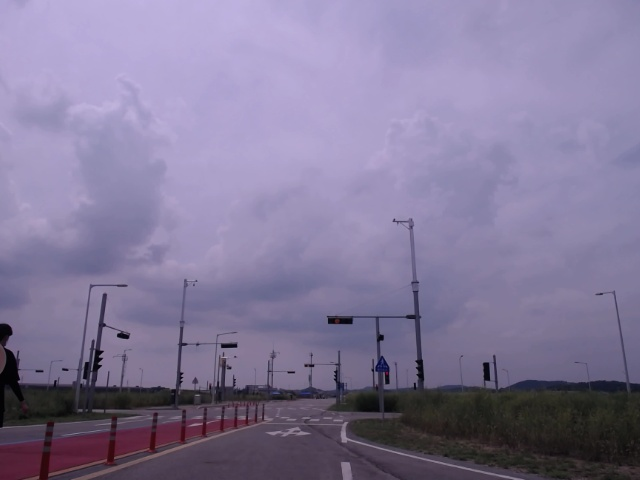orange_4: (327, 317, 356, 326), (304, 362, 317, 369)
